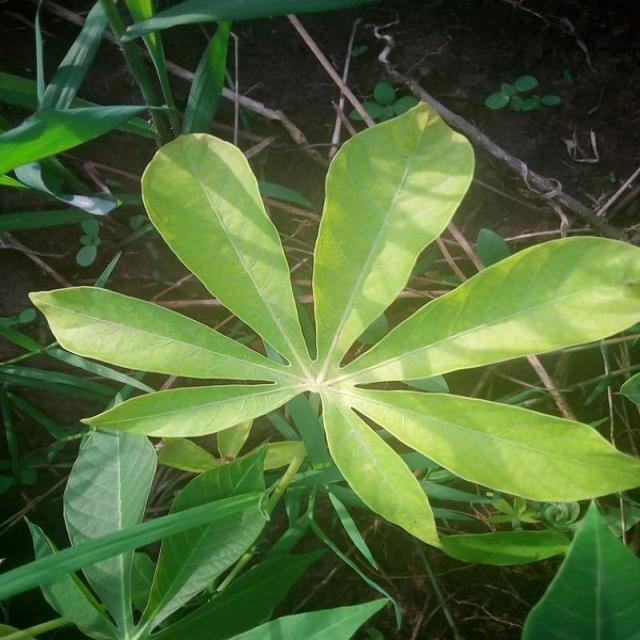cassava leaf: (27, 98, 638, 556), (310, 98, 476, 368), (139, 130, 312, 370)
